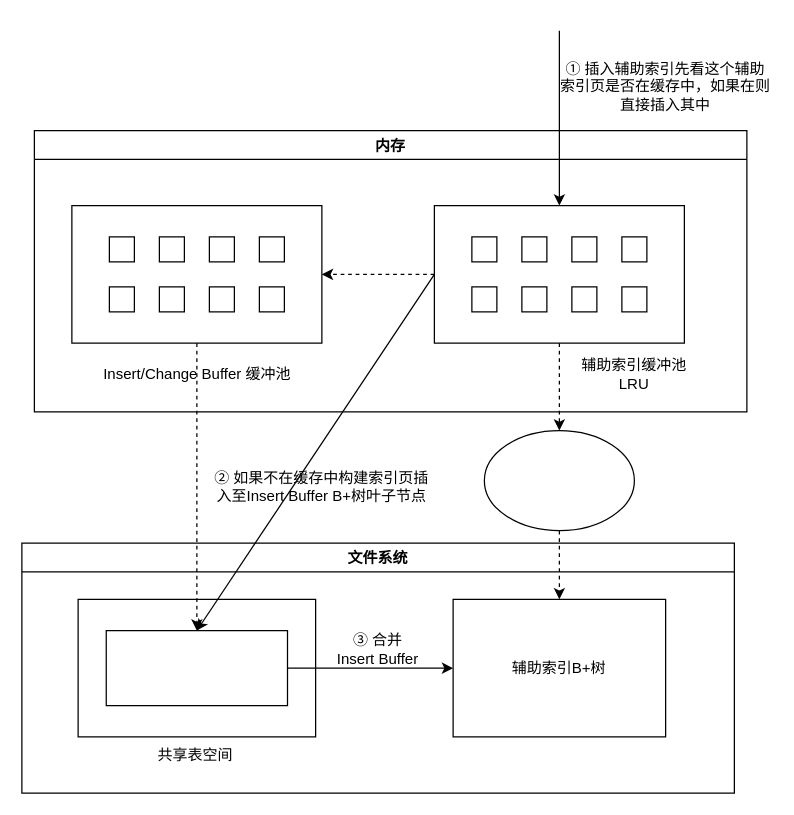
Some shapes in this 794 by 815 pixel diagram are drawn without their labels. The shapes that lost their labels are listed below. From the top down, each one's centre as x and y in pixels, then its label:
At [558,480]: "Checkpoint".
At [196,667]: "Insert/Change Buffer B+树".
